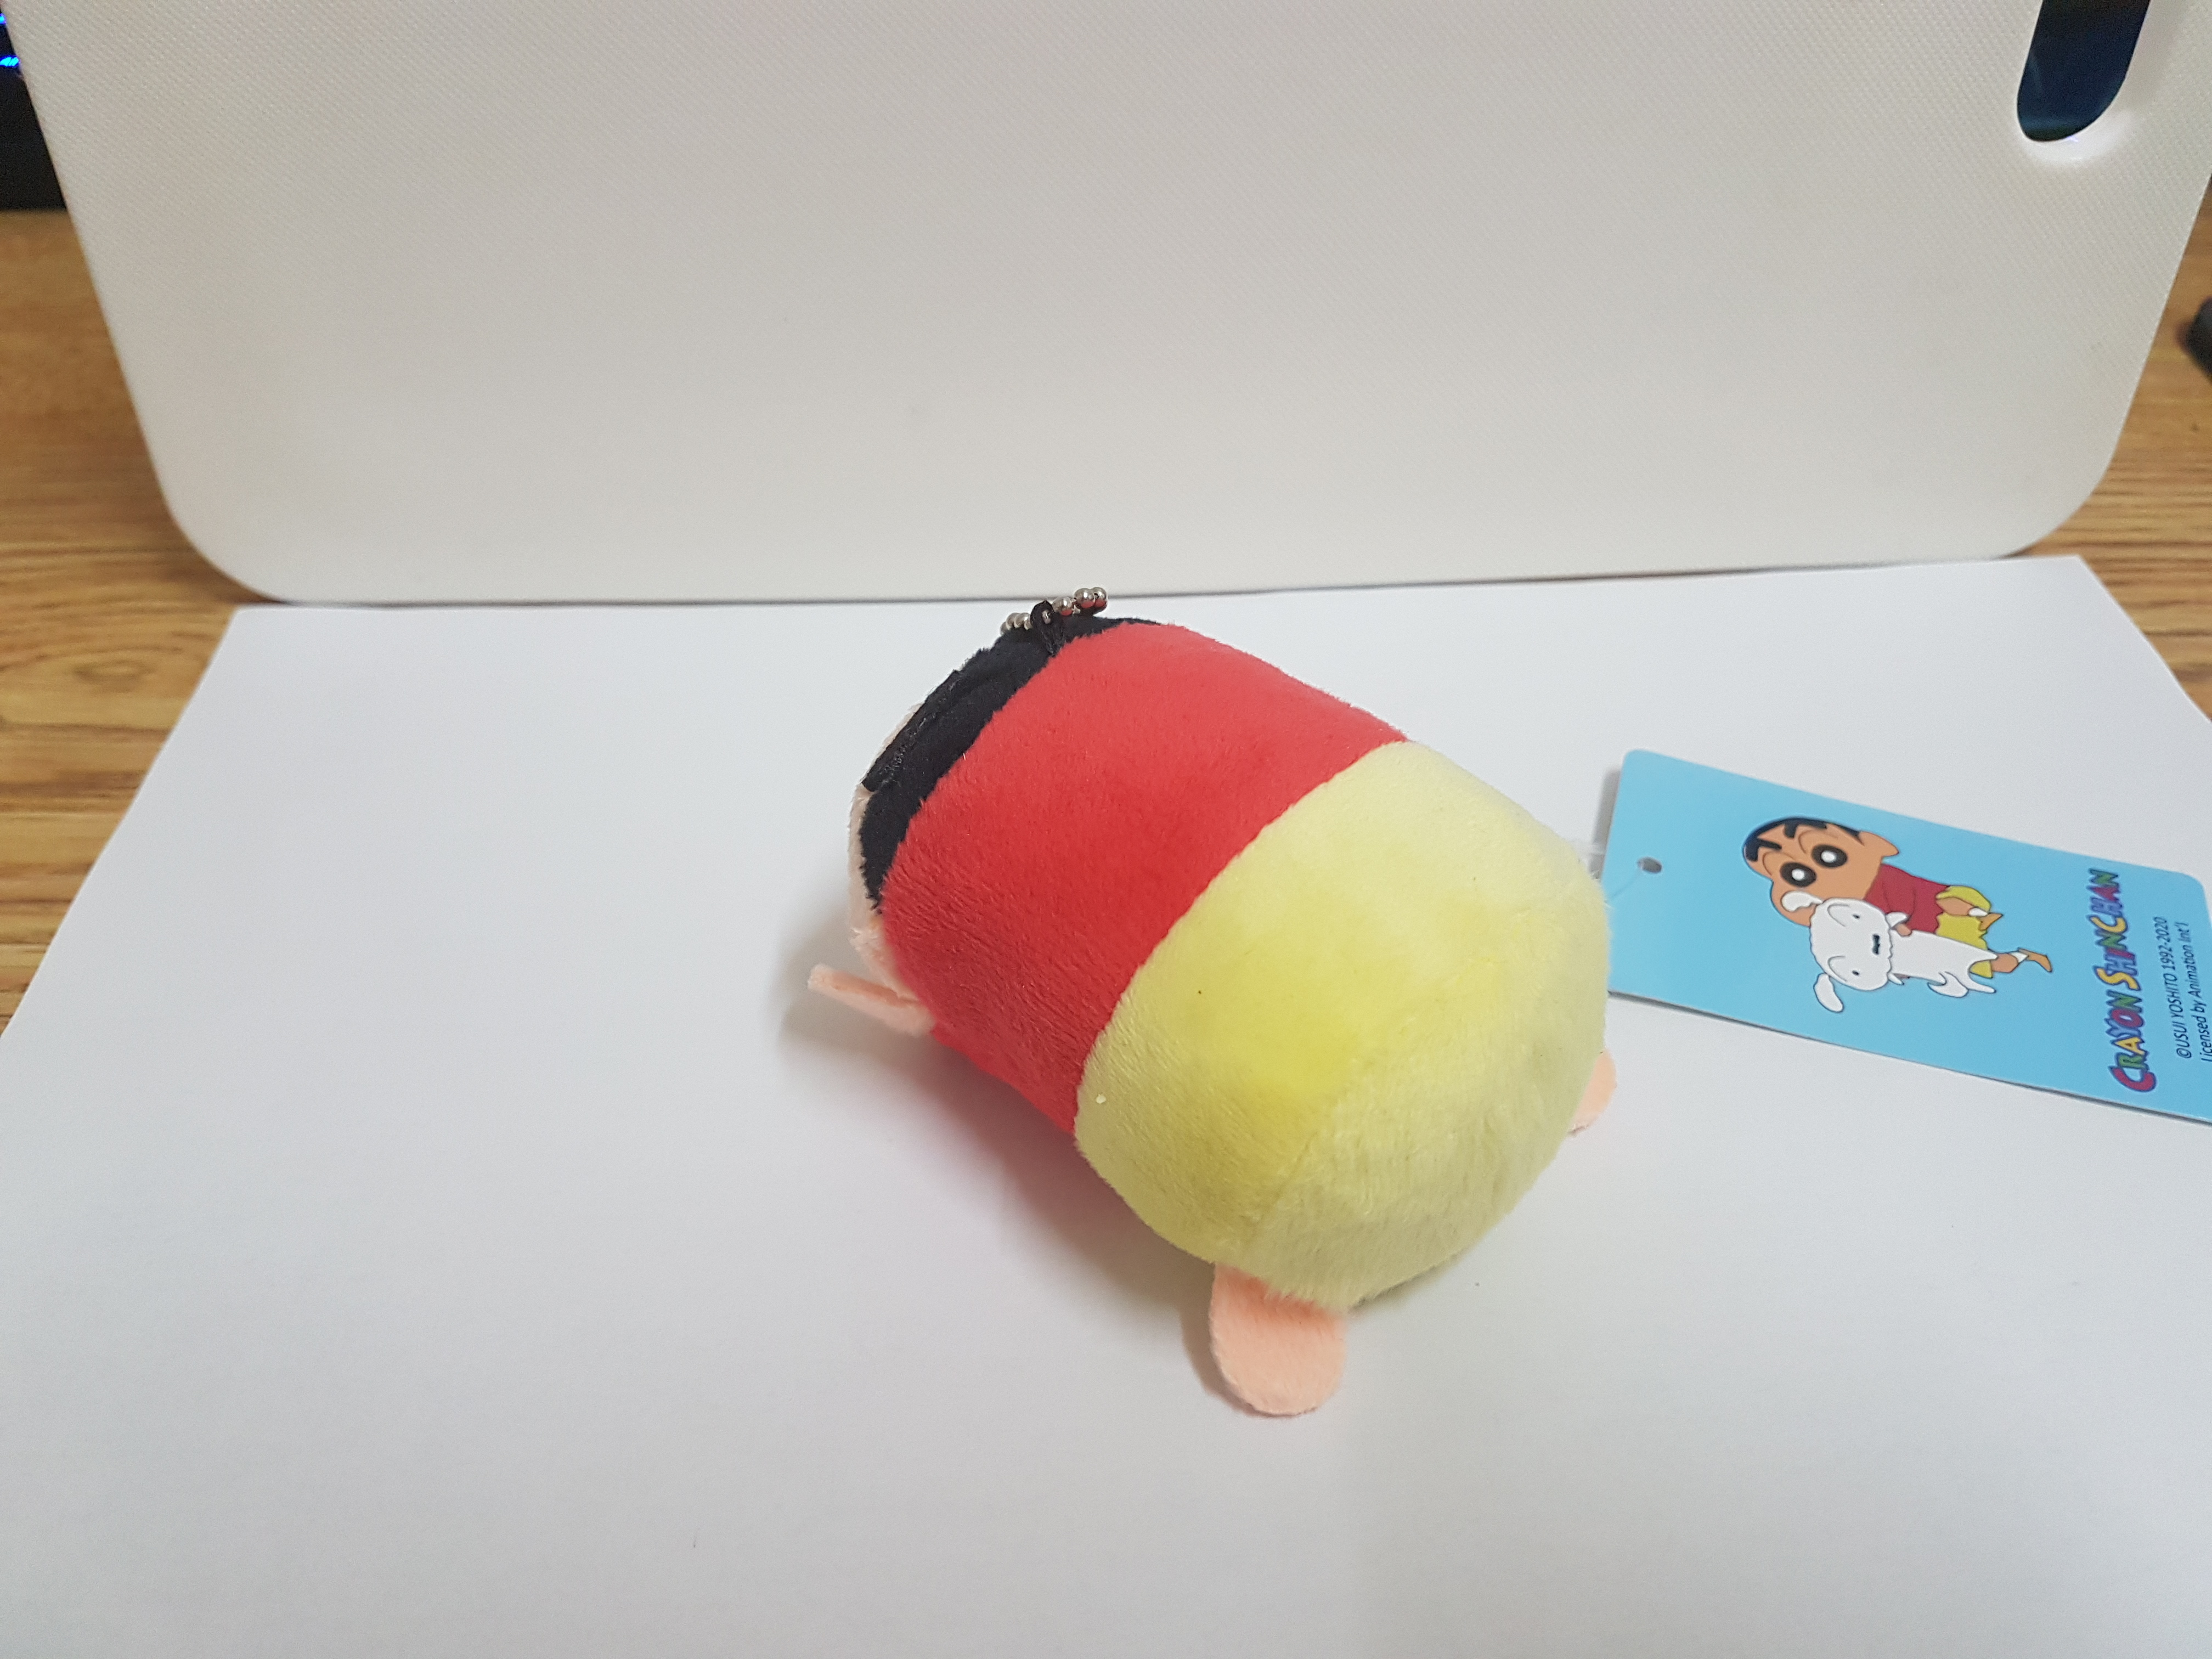stuffed toy: (806, 594, 1622, 1417)
